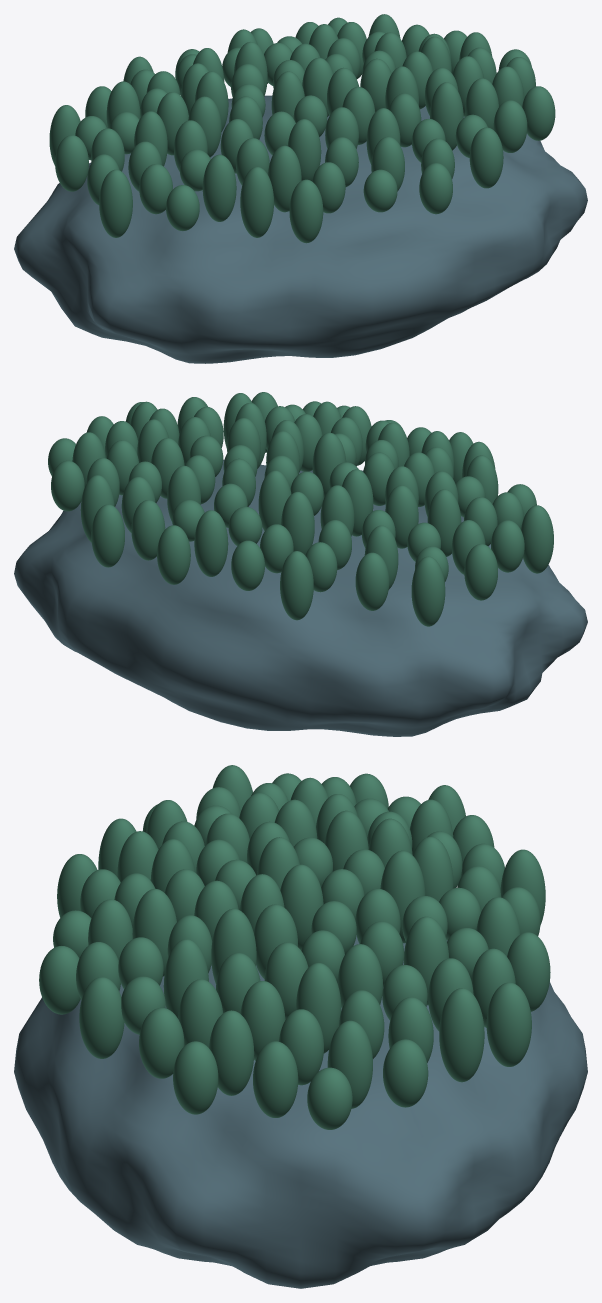
The picture shows the model from 3 angles, top to bottom: view 1: azimuth 30°, elevation 25°; view 2: azimuth 150°, elevation 25°; view 3: azimuth 270°, elevation 25°; orthographic projection. The views are drawn at different scales.
Visible parts, largest first — view 1: stone-5, moss-tip-69, moss-tip-85, moss-tip-56, moss-tip-82, moss-tip-79, moss-tip-48, moss-tip-80, moss-tip-37, moss-tip-27, moss-tip-84, moss-tip-87 (+62 smaller); view 2: stone-5, moss-tip-88, moss-tip-83, moss-tip-57, moss-tip-85, moss-tip-86, moss-tip-78, moss-tip-75, moss-tip-65, moss-tip-80, moss-tip-28, moss-tip-38 (+67 smaller); view 3: stone-5, moss-tip-73, moss-tip-86, moss-tip-79, moss-tip-63, moss-tip-76, moss-tip-84, moss-tip-68, moss-tip-81, moss-tip-71, moss-tip-34, moss-tip-78 (+71 smaller).
Boxes of the visible parts, <box> form: stone-5: <box>14,95,587,363</box>; moss-tip-69: <box>240,167,273,237</box>; moss-tip-85: <box>99,169,132,237</box>; moss-tip-56: <box>202,154,236,221</box>; moss-tip-82: <box>289,179,323,243</box>; moss-tip-79: <box>469,127,503,188</box>; moss-tip-48: <box>268,145,301,212</box>; moss-tip-80: <box>55,135,88,191</box>; moss-tip-37: <box>430,82,463,150</box>; moss-tip-27: <box>287,119,321,181</box>; moss-tip-84: <box>522,86,555,140</box>; moss-tip-87: <box>419,163,452,214</box>; stone-5: <box>14,459,587,736</box>; moss-tip-88: <box>411,556,445,626</box>; moss-tip-83: <box>280,551,313,620</box>; moss-tip-57: <box>194,510,228,576</box>; moss-tip-85: <box>521,505,553,573</box>; moss-tip-86: <box>91,504,124,567</box>; moss-tip-78: <box>157,525,190,584</box>; moss-tip-75: <box>355,552,389,610</box>; moss-tip-65: <box>131,500,165,560</box>; moss-tip-80: <box>464,544,497,600</box>; moss-tip-28: <box>281,491,314,555</box>; moss-tip-38: <box>427,489,461,556</box>; stone-5: <box>14,935,587,1288</box>; moss-tip-73: <box>439,988,484,1082</box>; moss-tip-86: <box>486,982,531,1066</box>; moss-tip-79: <box>79,977,124,1058</box>; moss-tip-63: <box>209,1010,254,1095</box>; moss-tip-76: <box>253,1041,298,1117</box>; moss-tip-84: <box>173,1041,218,1114</box>; moss-tip-68: <box>327,1020,372,1108</box>; moss-tip-81: <box>383,1039,428,1107</box>; moss-tip-71: <box>139,1007,184,1078</box>; moss-tip-34: <box>296,962,341,1053</box>; moss-tip-78: <box>507,932,550,1011</box>.
Bounding box in the file's own units: 1.84 × 0.8836 × 1.39.
